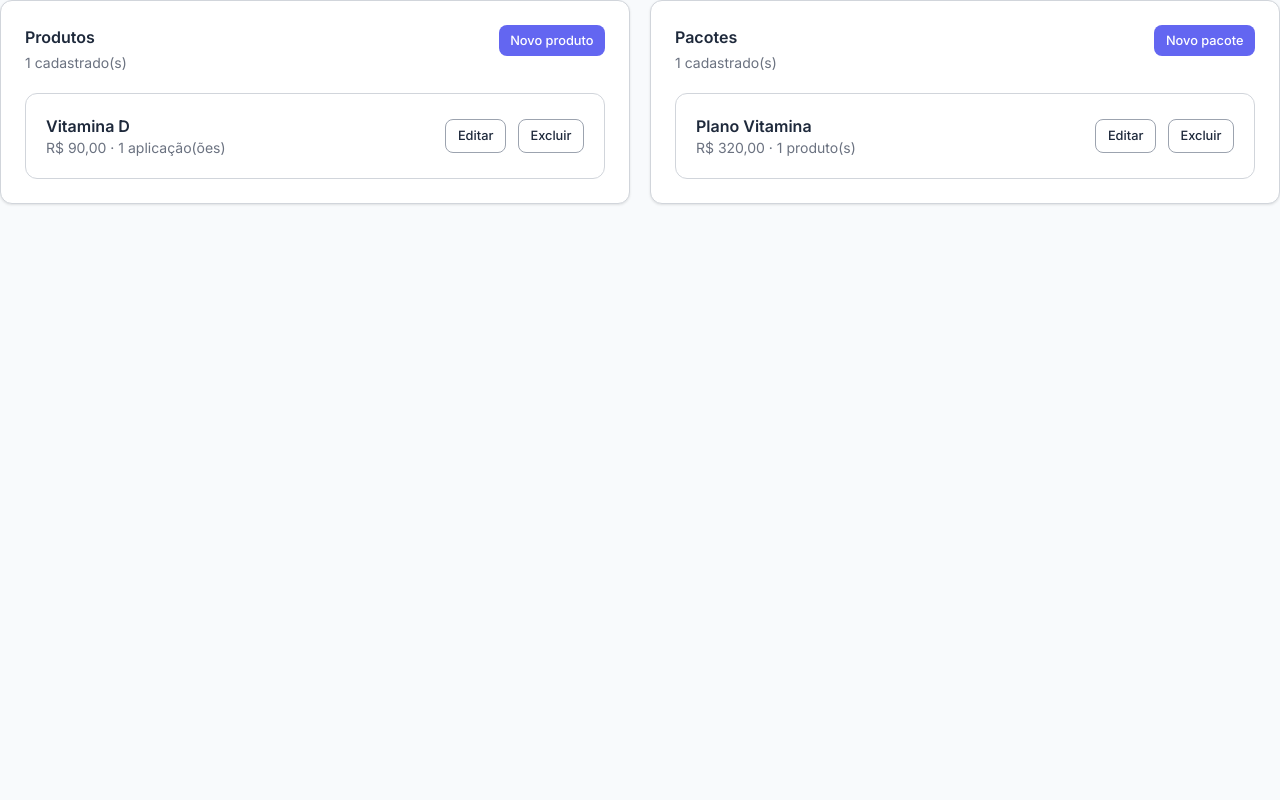
it: CatalogManager › shows the backend detail when a package update fails
The width and height of the screenshot is (1280, 800).
Expected: the text "Plano Vitamina" is shown, [696, 116, 812, 136]
Click the button "Editar" in the row of "R$ 320,00 · 1 produto(s)": (1126, 136) [1095, 119, 1156, 153]
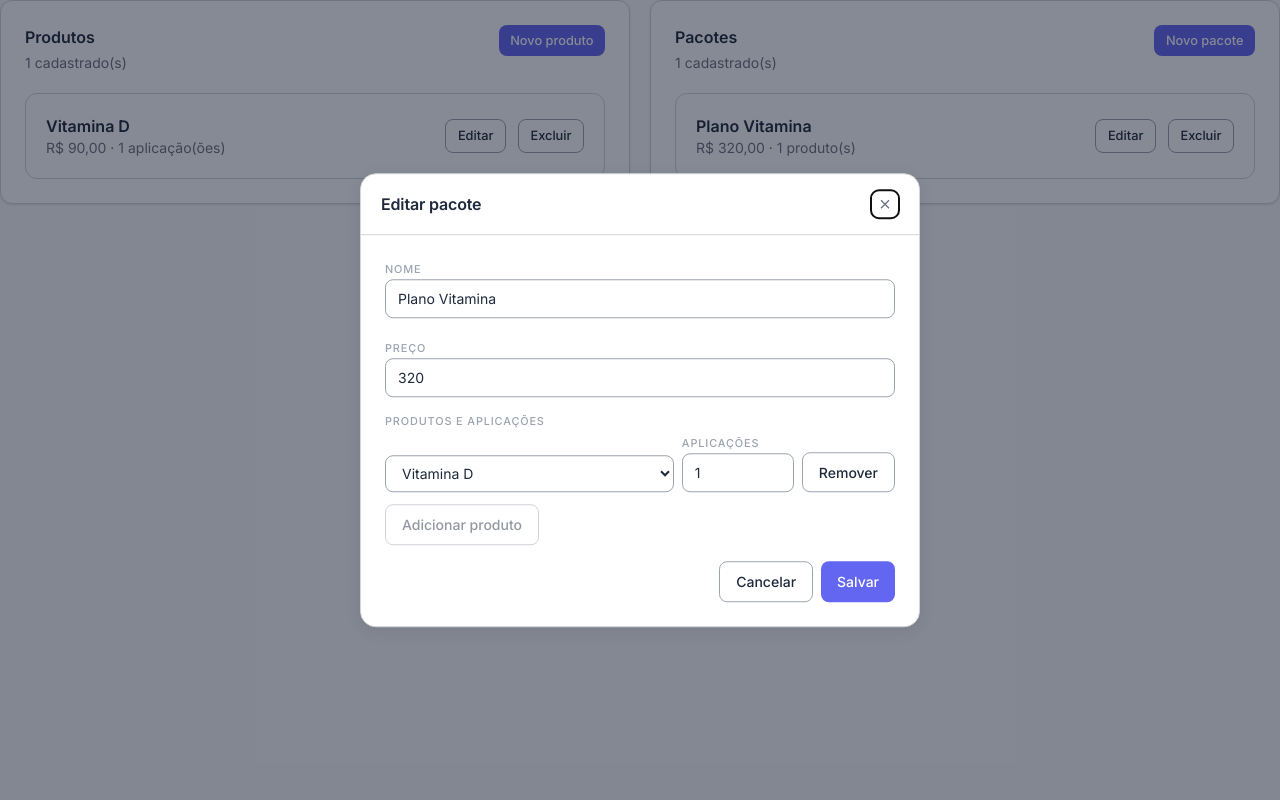
Click the button "Salvar": (858, 582) [821, 561, 895, 602]
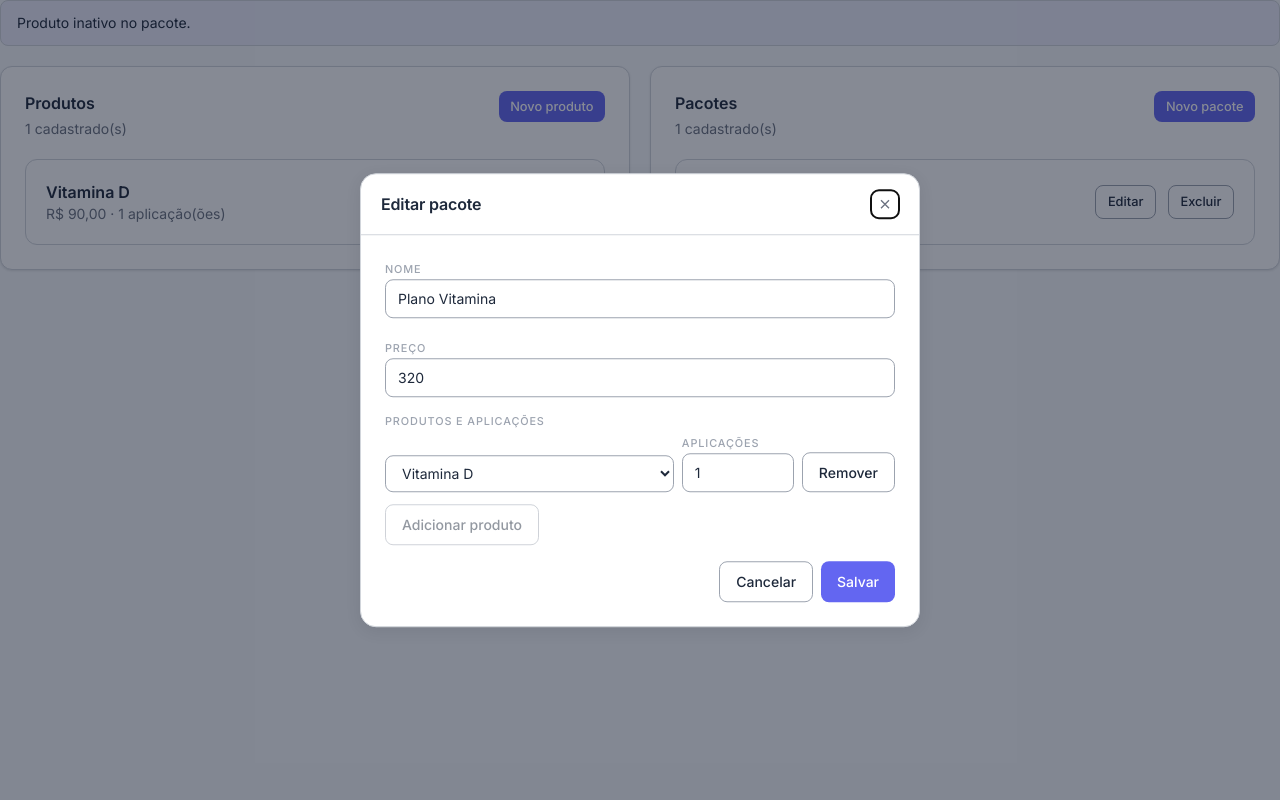
Expected: the text "Produto inativo no pacote." is shown, [0, 0, 1279, 46]
